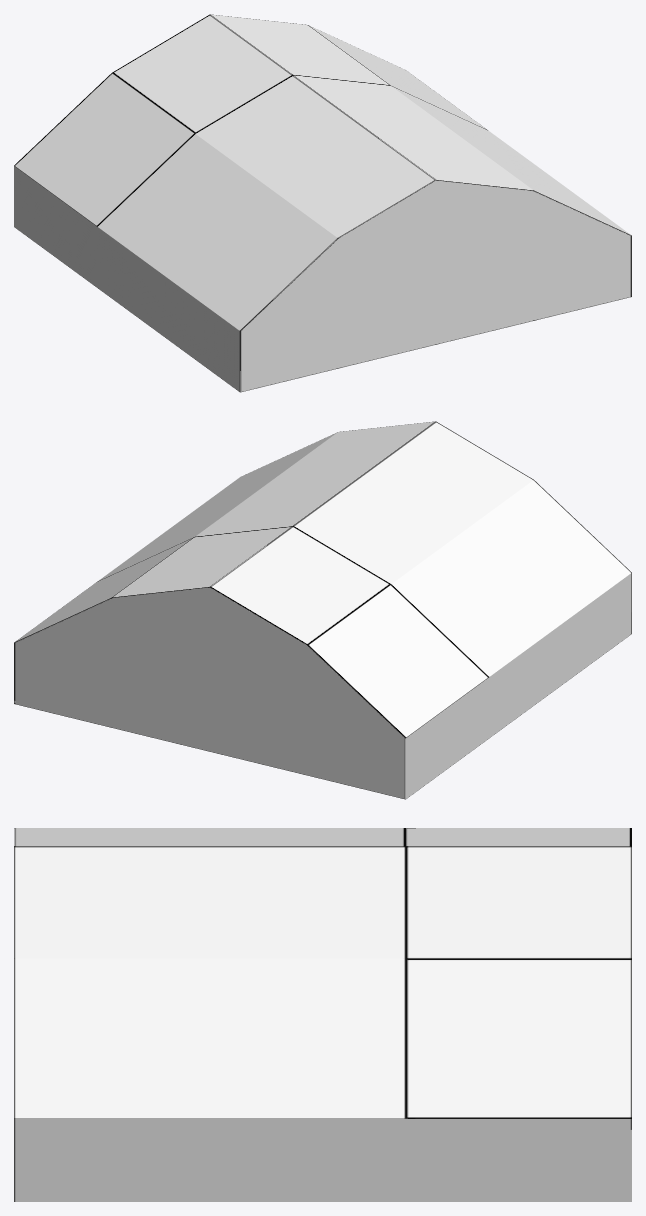
The model's file is mouse.fbx.
The picture shows the model from 3 angles, top to bottom: view 1: azimuth 30°, elevation 25°; view 2: azimuth 150°, elevation 25°; view 3: azimuth 270°, elevation 25°; orthographic projection. The views are drawn at different scales.
Visible parts, largest first — view 1: Mouse; view 2: Mouse; view 3: Mouse.
Part boxes in pixels (<box>): Mouse: <box>14,14,631,392</box>; Mouse: <box>14,421,631,799</box>; Mouse: <box>14,828,631,1201</box>.
Bounding box in the file's own units: 30.3 × 12.18 × 30.3.
1 material, 1 textured.
